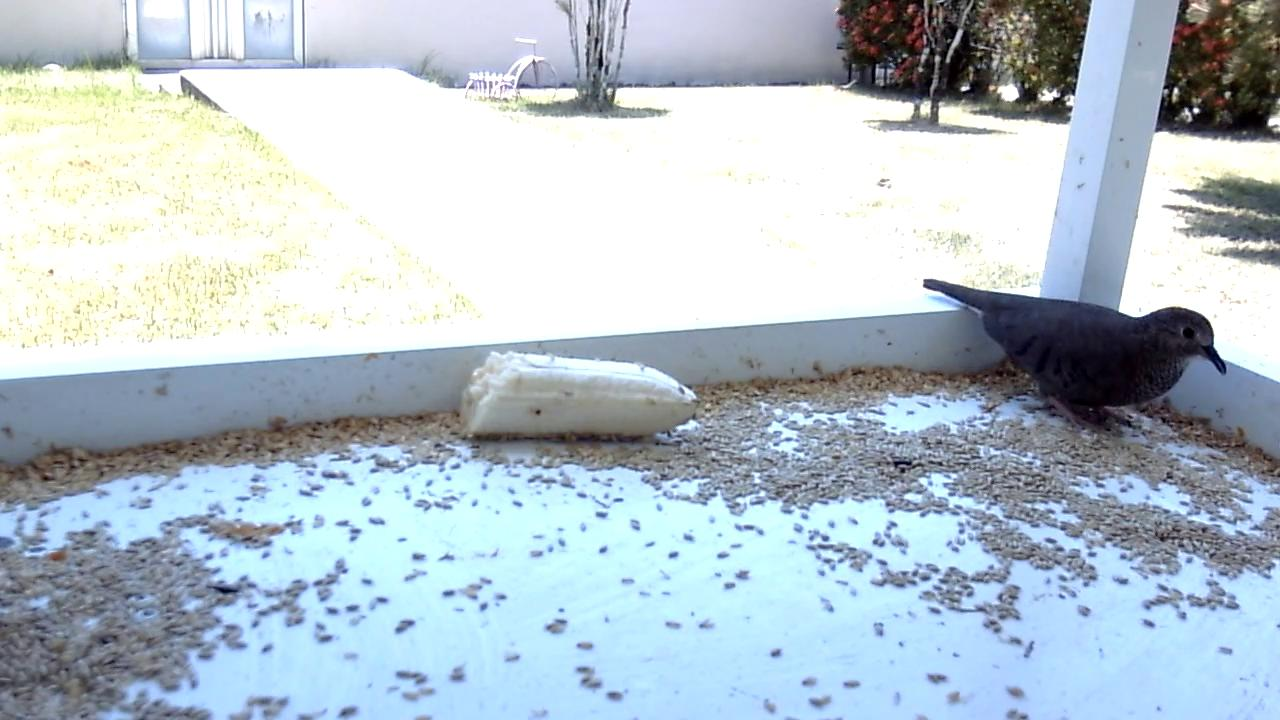rolinha: (919, 271, 1232, 432)
